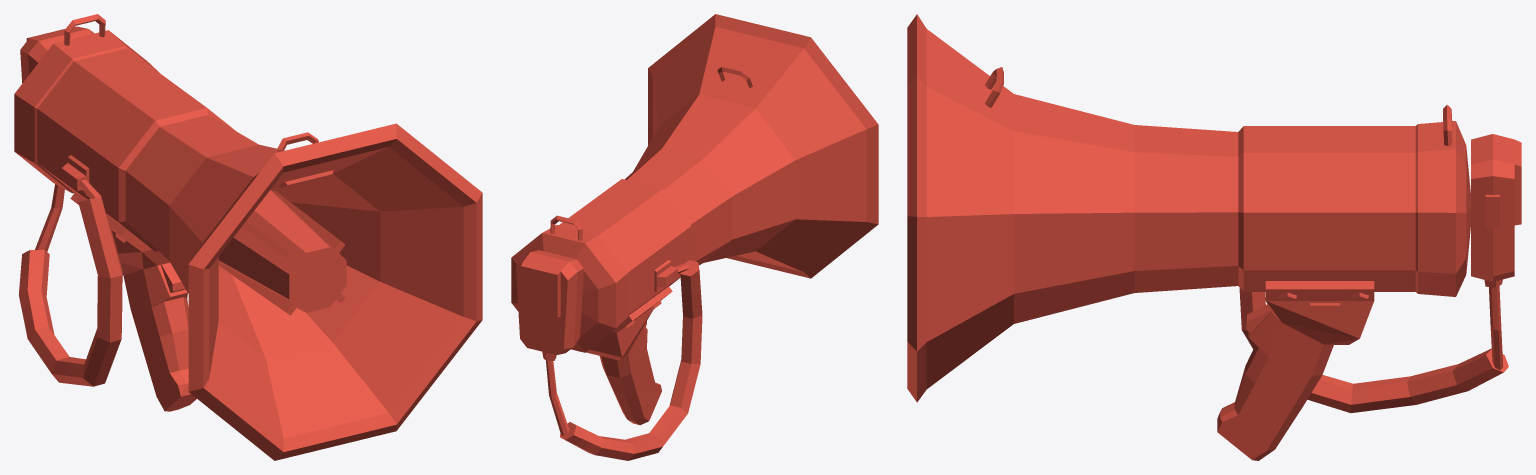
The model's file is SM_Megafon_Movie.fbx.
3 views of the same model, side by side, from view 1: azimuth 30°, elevation 25°; view 2: azimuth 150°, elevation 25°; view 3: azimuth 270°, elevation 25° (orthographic). The views are drawn at different scales.
Visible parts, largest first — view 1: SM_Megafon_Movie; view 2: SM_Megafon_Movie; view 3: SM_Megafon_Movie.
Part boxes in pixels (<box>): SM_Megafon_Movie: <box>14,14,482,460</box>; SM_Megafon_Movie: <box>511,14,878,460</box>; SM_Megafon_Movie: <box>907,14,1521,460</box>.
Size of the model in its own units: 39.95 by 23.38 by 29.65.
